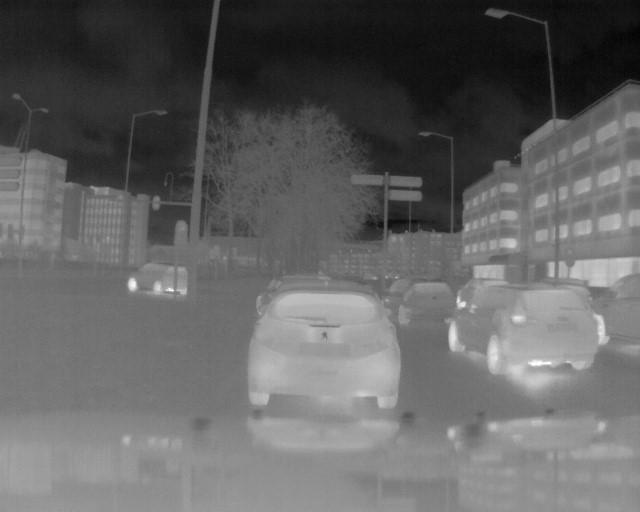car: (252, 279, 403, 417), (448, 278, 592, 378), (123, 254, 193, 299)
